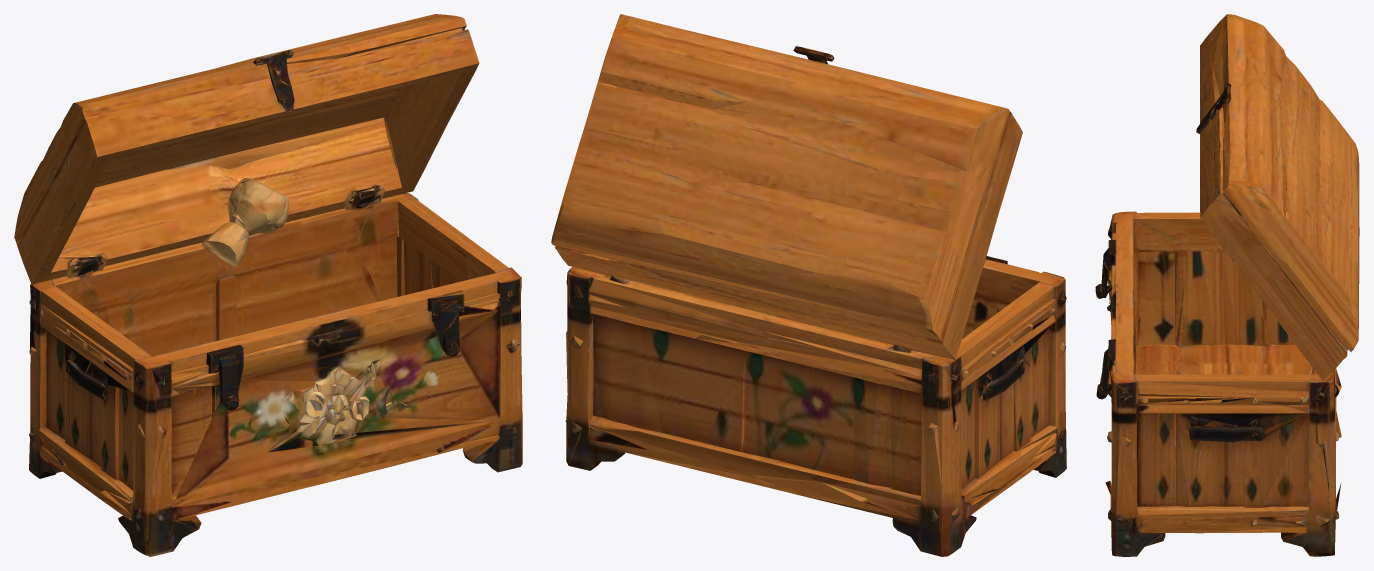
Rendered from blanket_chest.glb.
The picture shows the model from 3 angles, left to right: view 1: azimuth 30°, elevation 25°; view 2: azimuth 150°, elevation 25°; view 3: azimuth 270°, elevation 25°; orthographic projection. The views are drawn at different scales.
Size of the model in its own units: 1.89 by 1.9 by 1.19.
1 material, 1 textured.
